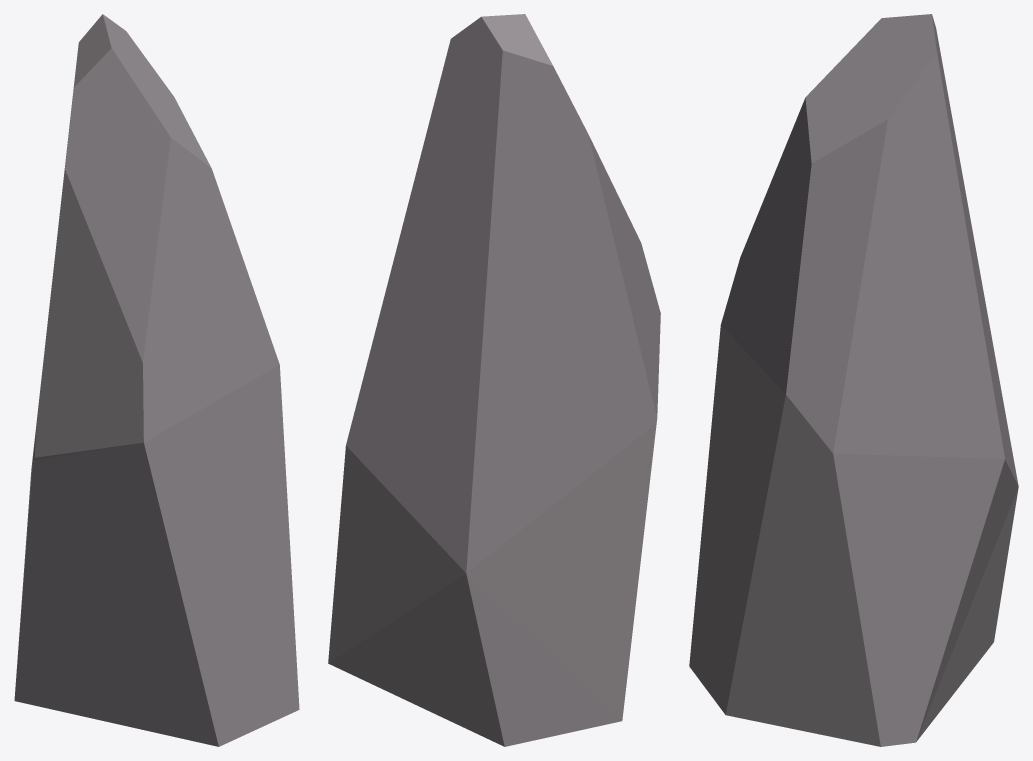
File: Rock_Sharp_m_02 2.fbx
The picture shows the model from 3 angles, left to right: view 1: azimuth 30°, elevation 25°; view 2: azimuth 150°, elevation 25°; view 3: azimuth 270°, elevation 25°; orthographic projection. The views are drawn at different scales.
Visible parts, largest first — view 1: Rock_Sharp_m_02; view 2: Rock_Sharp_m_02; view 3: Rock_Sharp_m_02.
Part boxes in pixels (box(x1,y1,x2,y2)): Rock_Sharp_m_02: box(14, 14, 299, 746); Rock_Sharp_m_02: box(328, 14, 660, 746); Rock_Sharp_m_02: box(689, 14, 1018, 746).
Size of the model in its own units: 78.37 by 175 by 79.92.
